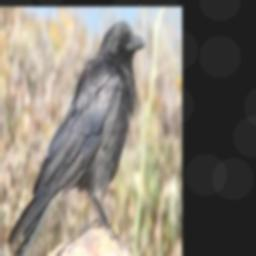Crow: (7, 19, 146, 256)
